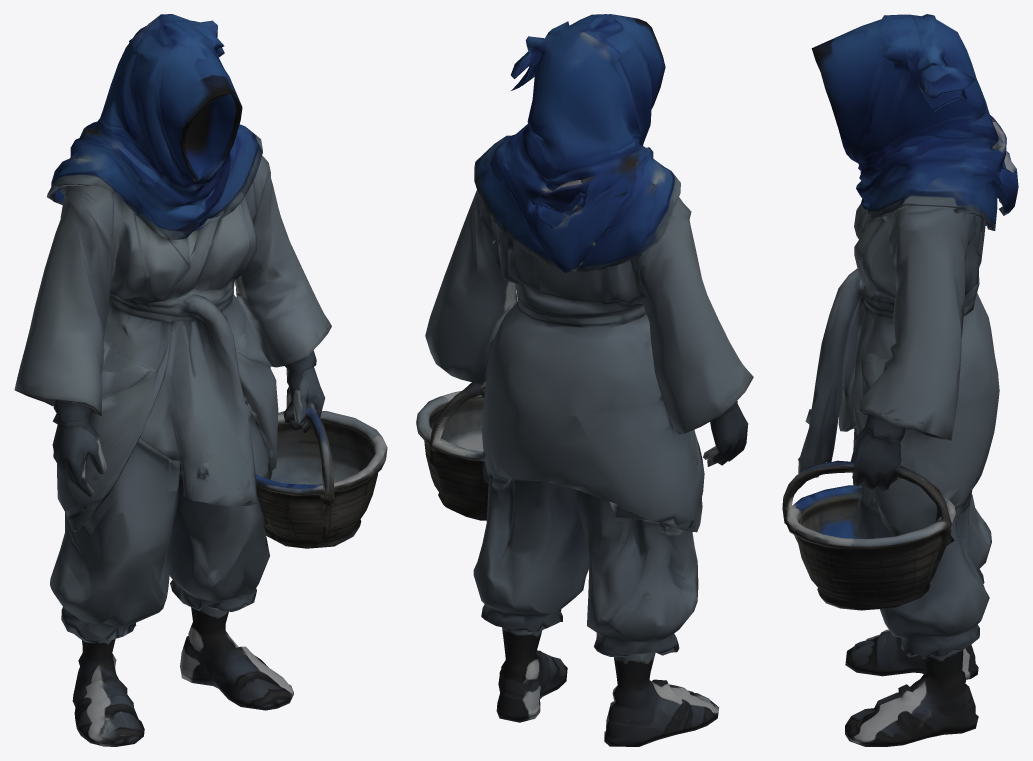
Rendered from washer_A_h25.glb.
3 renders of one model, left to right at view 1: azimuth 30°, elevation 25°; view 2: azimuth 150°, elevation 25°; view 3: azimuth 270°, elevation 25°, orthographic.
Parts seen in each view (by area): view 1: tripo_node_aa692efd-ed65-49a2-bf87-0948bfed0488; view 2: tripo_node_aa692efd-ed65-49a2-bf87-0948bfed0488; view 3: tripo_node_aa692efd-ed65-49a2-bf87-0948bfed0488.
Boxes of the visible parts, x1,y1,x2,y2 form: tripo_node_aa692efd-ed65-49a2-bf87-0948bfed0488: [14, 14, 387, 746]; tripo_node_aa692efd-ed65-49a2-bf87-0948bfed0488: [416, 14, 753, 746]; tripo_node_aa692efd-ed65-49a2-bf87-0948bfed0488: [782, 14, 1018, 746].
Size of the model in its own units: 0.51 by 1 by 0.3126.
1 material, 1 textured.
